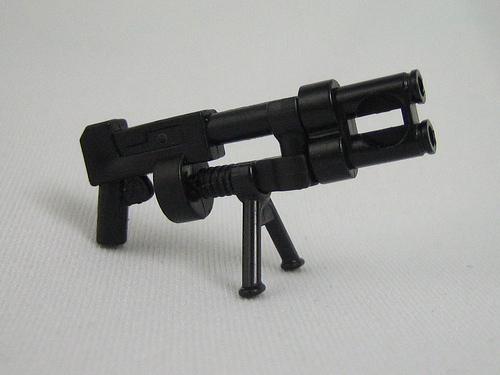rifle: (77, 69, 441, 305)
